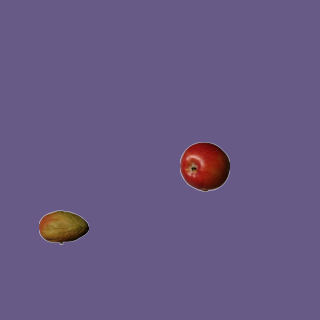Apple Braeburn: (179, 141, 229, 191)
Papaya: (38, 202, 88, 252)
